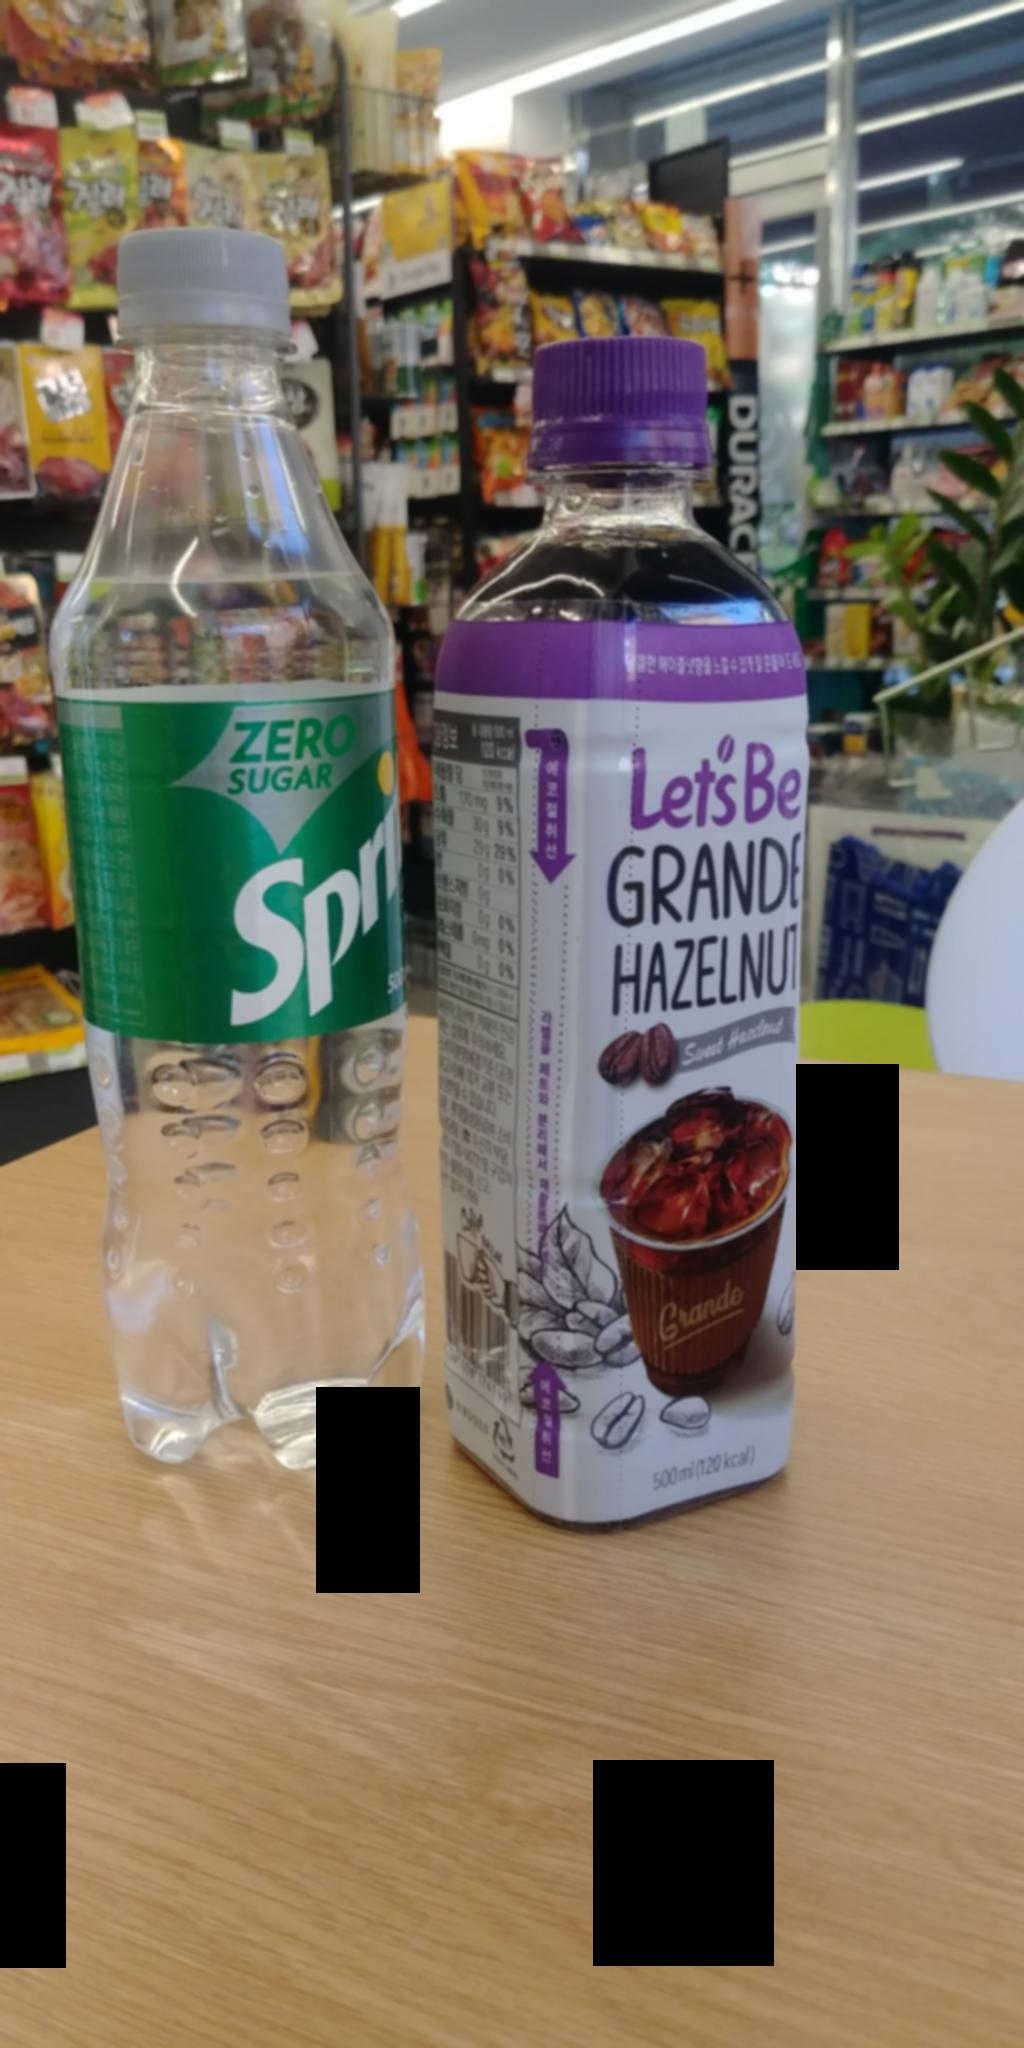letsbe_grande_hazelnut: (474, 290, 846, 1526)
sprite_zero: (46, 202, 456, 1514)
